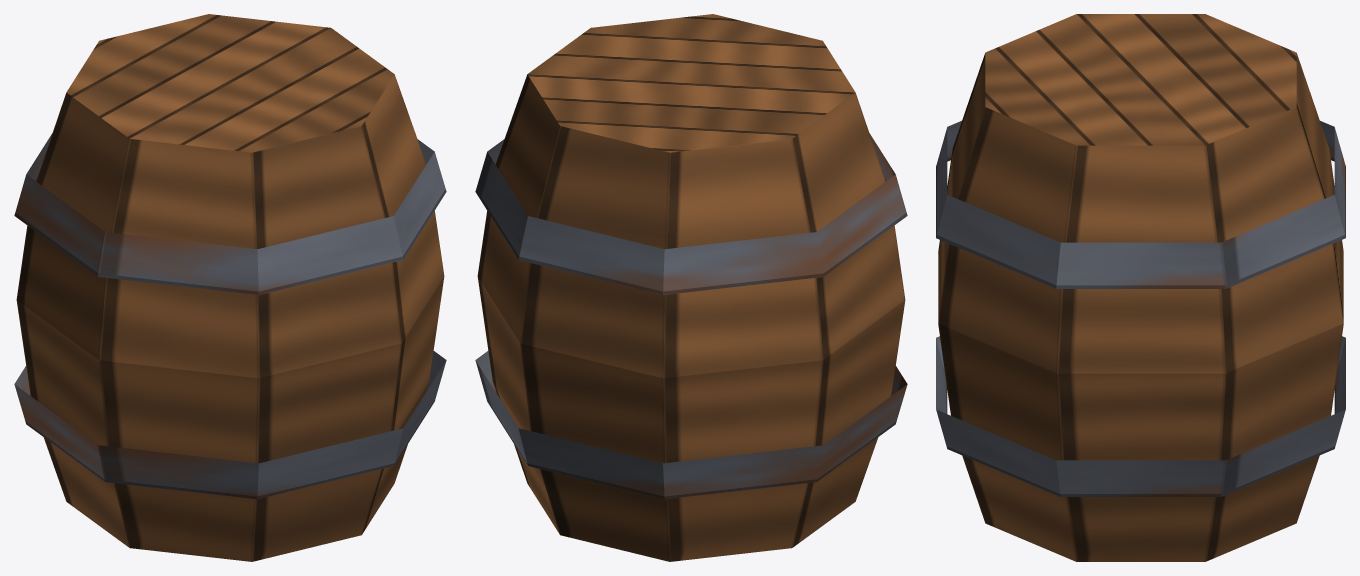
Rendered from Barrel.glb.
3 renders of one model, left to right at view 1: azimuth 30°, elevation 25°; view 2: azimuth 150°, elevation 25°; view 3: azimuth 270°, elevation 25°, orthographic.
Parts seen in each view (by area): view 1: Barrel; view 2: Barrel; view 3: Barrel.
Boxes of the visible parts, bbox=[...] form: Barrel: bbox=[14, 14, 446, 561]; Barrel: bbox=[475, 14, 907, 561]; Barrel: bbox=[936, 14, 1345, 561].
Size of the model in its own units: 0.8028 by 0.9 by 0.8028.
Materials: 2 (2 with a texture image).
